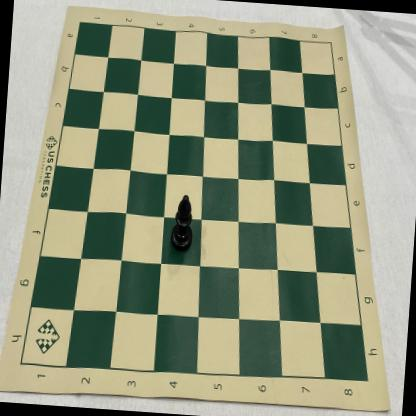bishop: (170, 194, 196, 254)
